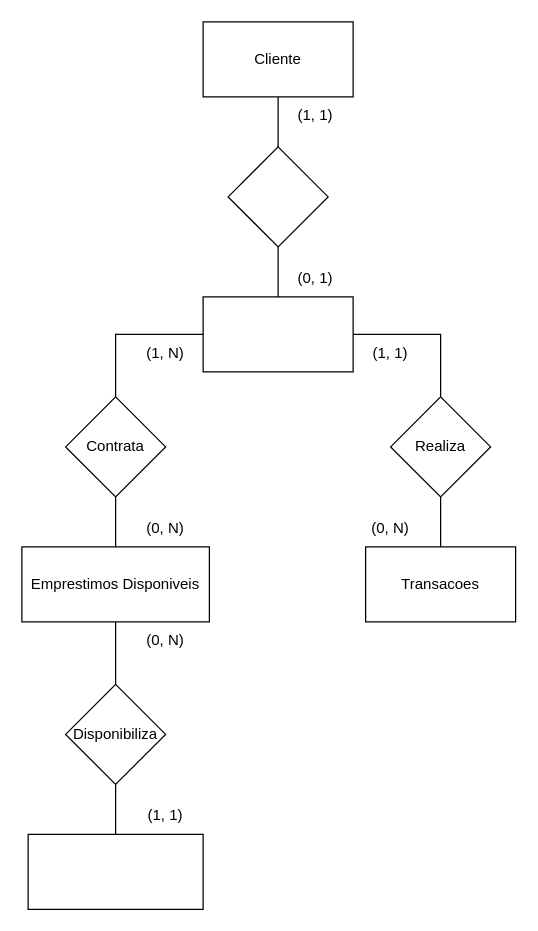
The diagram is 538 pixels wide and 931 high, and some of its shapes have lost their labels. Here are the shapes that lost their labels. From the top down, the centre of each, then its label:
(277,196): Abre
(277,334): Conta
(115,871): Emprestimo
